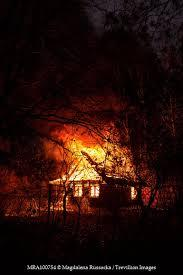fire: (46, 126, 145, 207)
